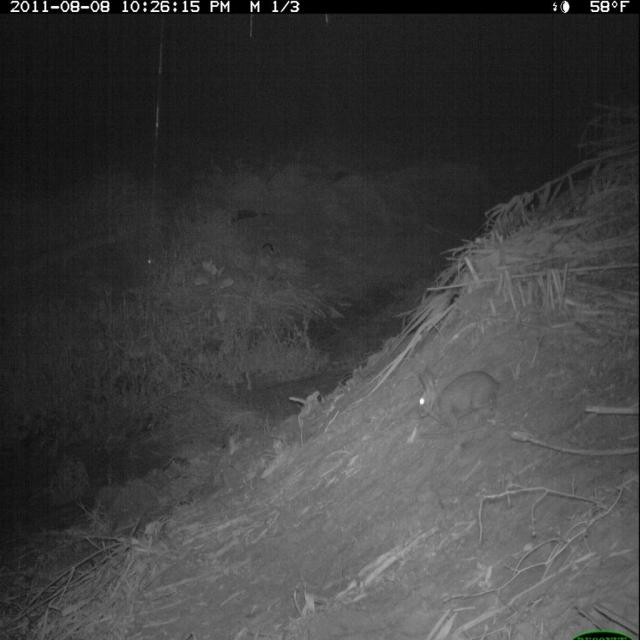rabbit: (415, 363, 502, 436)
